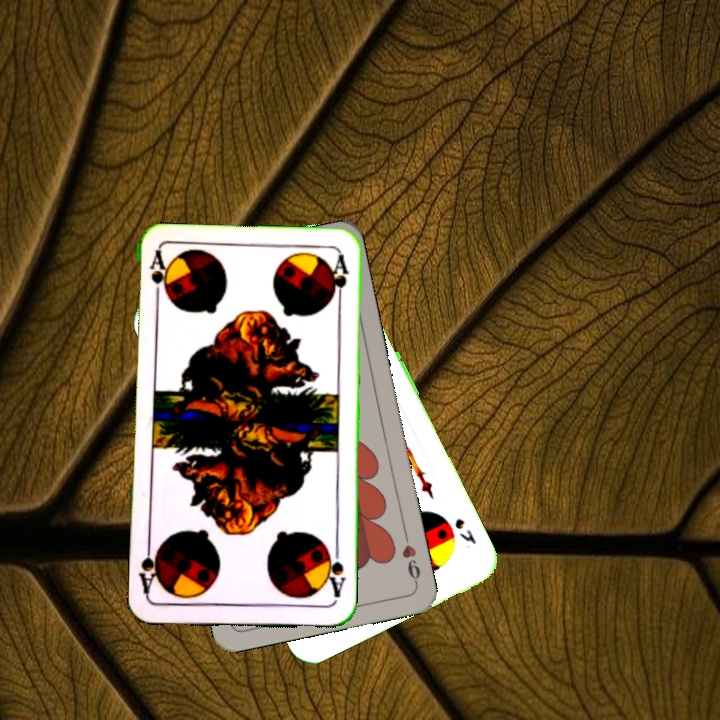H9: (398, 529, 423, 587)
SA: (321, 542, 349, 600), (145, 248, 169, 307)
SK: (450, 514, 479, 547)
